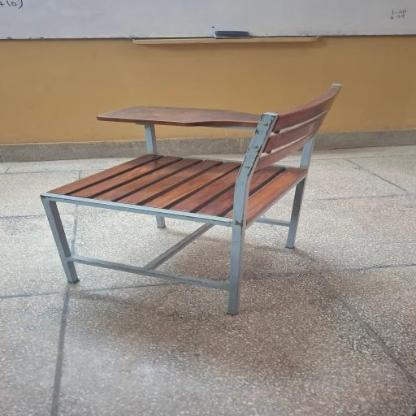chair: (32, 79, 350, 322)
